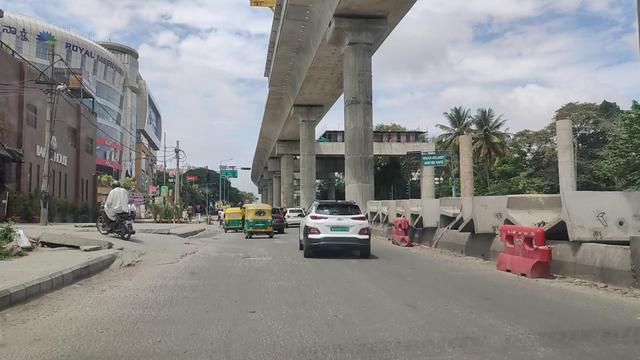LMV: (299, 199, 370, 259), (104, 179, 131, 237), (243, 205, 273, 237)
RoadDamages: (243, 252, 275, 265)
